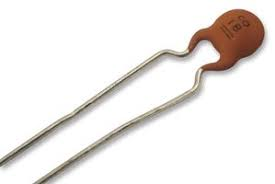ceramic capacitor: (173, 2, 271, 123)
